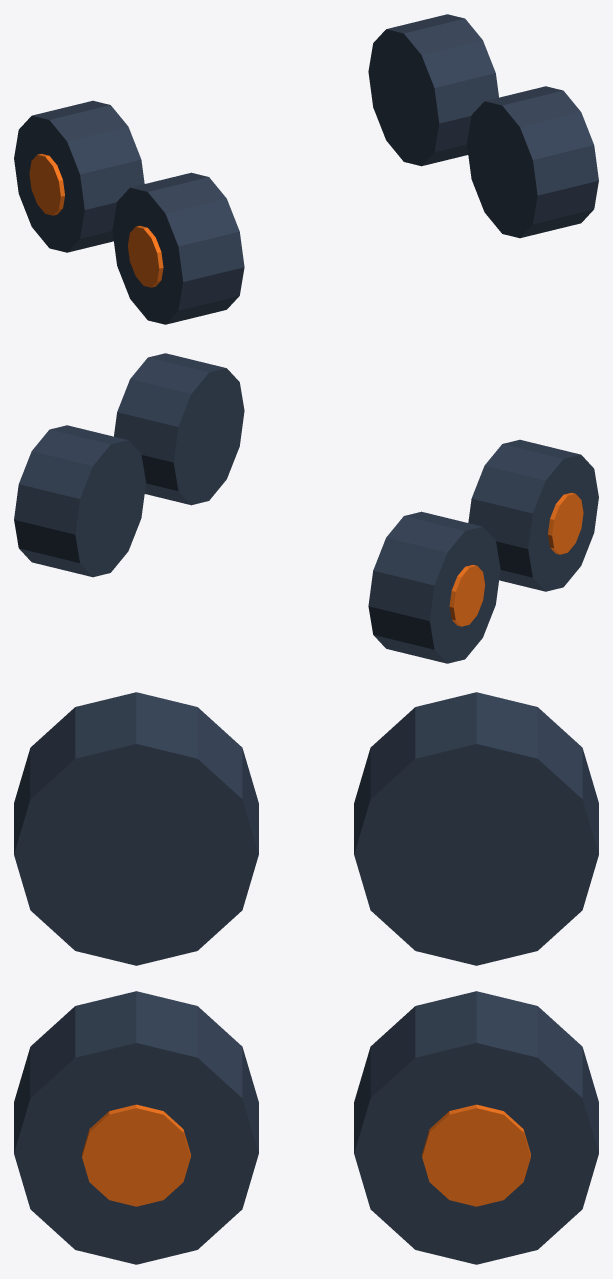
The model's file is wheels.glb.
The picture shows the model from 3 angles, top to bottom: view 1: azimuth 30°, elevation 25°; view 2: azimuth 150°, elevation 25°; view 3: azimuth 270°, elevation 25°; orthographic projection. The views are drawn at different scales.
Visible parts, largest first — view 1: wheels.wheel.003, wheels.wheel.002, wheels.wheel.001, wheels.wheel, wheels.hub, wheels.hub.001; view 2: wheels.wheel.002, wheels.wheel.003, wheels.wheel, wheels.wheel.001, wheels.hub, wheels.hub.001; view 3: wheels.wheel, wheels.wheel.001, wheels.wheel.002, wheels.wheel.003, wheels.hub.002, wheels.hub.003.
Part boxes in pixels (box(x1,y1,x2,y2)): wheels.wheel.003: box(467, 86, 598, 238); wheels.wheel.002: box(368, 14, 498, 166); wheels.wheel.001: box(112, 172, 244, 324); wheels.wheel: box(14, 100, 144, 252); wheels.hub: box(29, 153, 64, 215); wheels.hub.001: box(128, 226, 163, 287); wheels.wheel.002: box(14, 425, 145, 577); wheels.wheel.003: box(114, 353, 244, 505); wheels.wheel: box(368, 511, 500, 663); wheels.wheel.001: box(468, 439, 598, 591); wheels.hub: box(449, 565, 484, 626); wheels.hub.001: box(548, 492, 583, 554); wheels.wheel: box(354, 692, 598, 965); wheels.wheel.001: box(14, 692, 258, 965); wheels.wheel.002: box(354, 991, 598, 1264); wheels.wheel.003: box(14, 991, 258, 1264); wheels.hub.002: box(422, 1104, 530, 1206); wheels.hub.003: box(82, 1104, 190, 1206).
Bounding box in the file's own units: 1.25 × 0.36 × 0.86.
